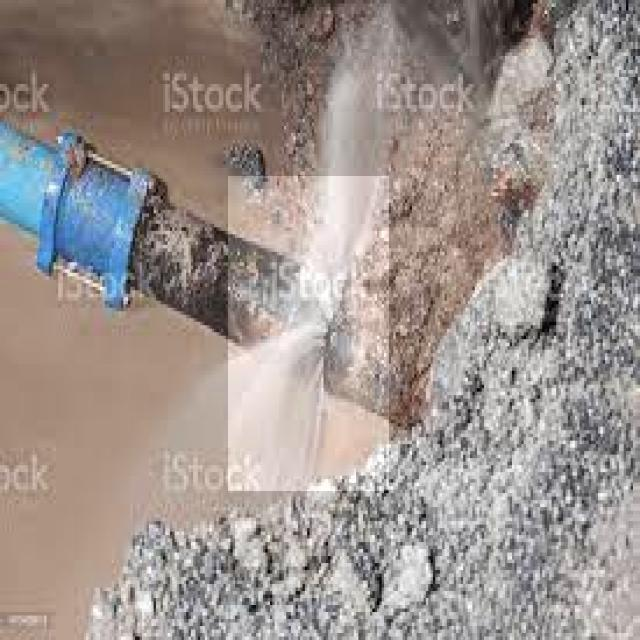corrosion: (237, 177, 388, 483)
